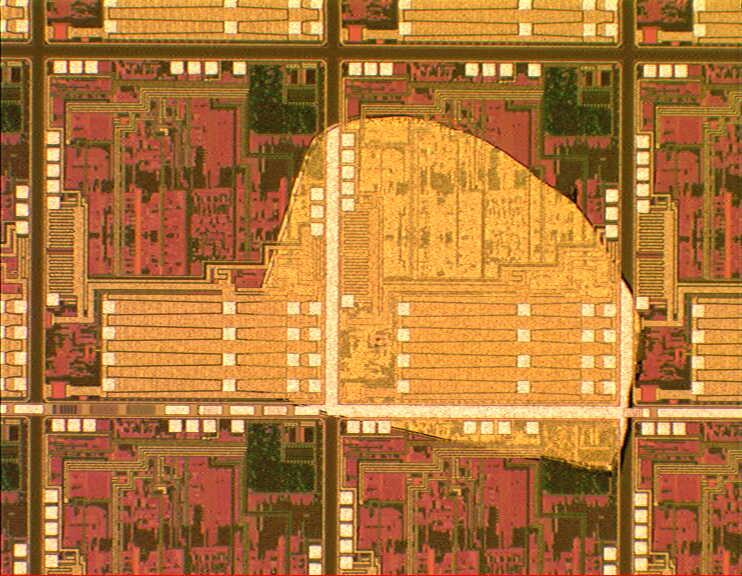BLOCK ETCH: (231, 104, 654, 481)
